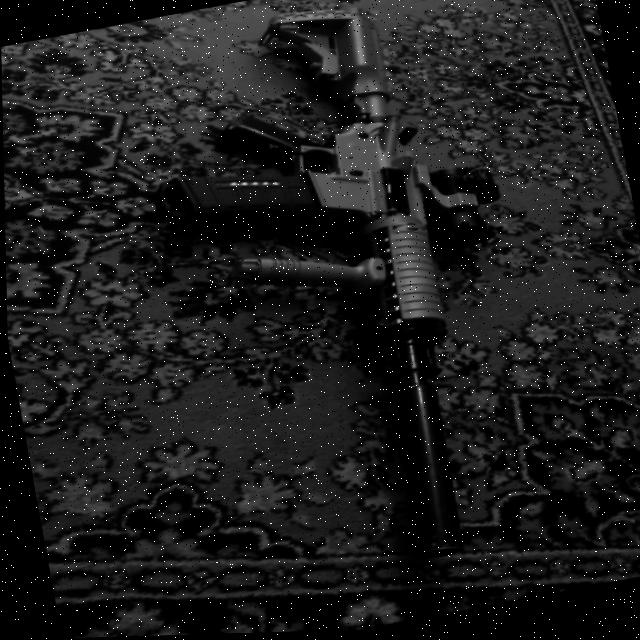firearm: (121, 0, 562, 604)
